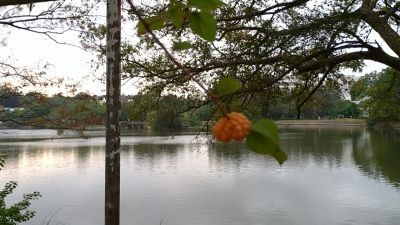eggs: (213, 111, 251, 144)
